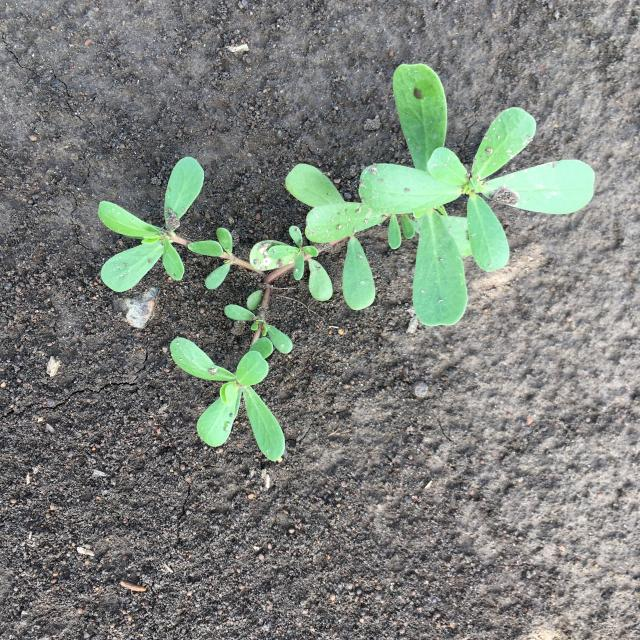Purslane: (98, 63, 596, 462)
